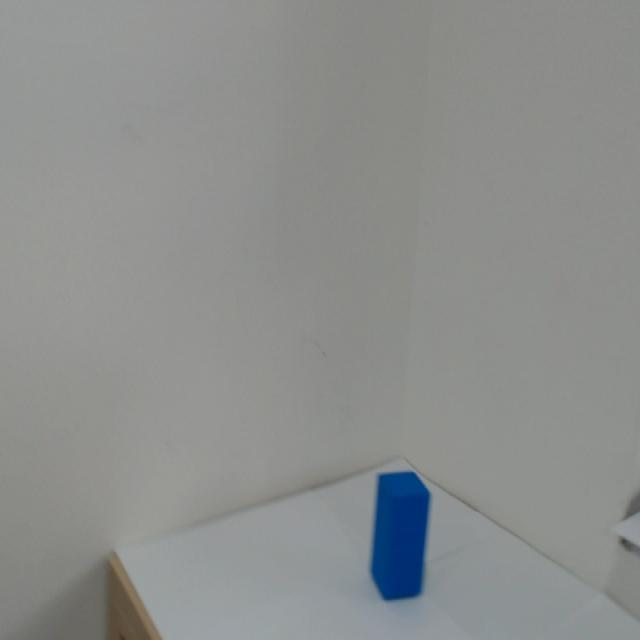cube: (351, 436, 434, 614)
